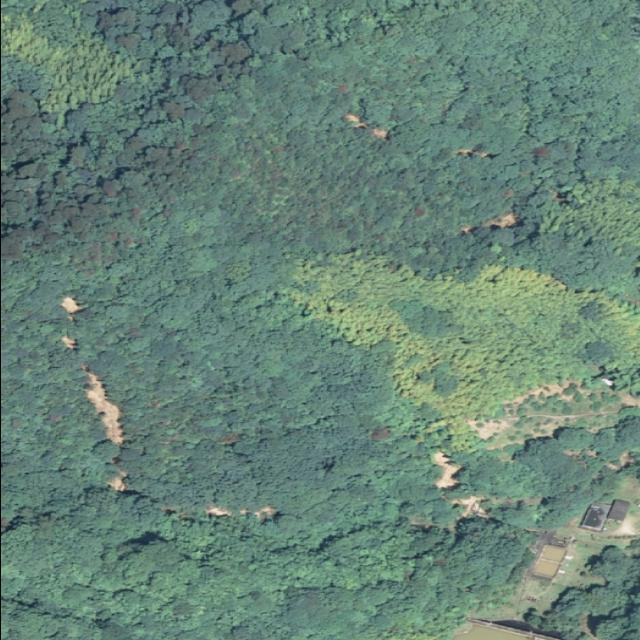landslide: (81, 365, 123, 446)
